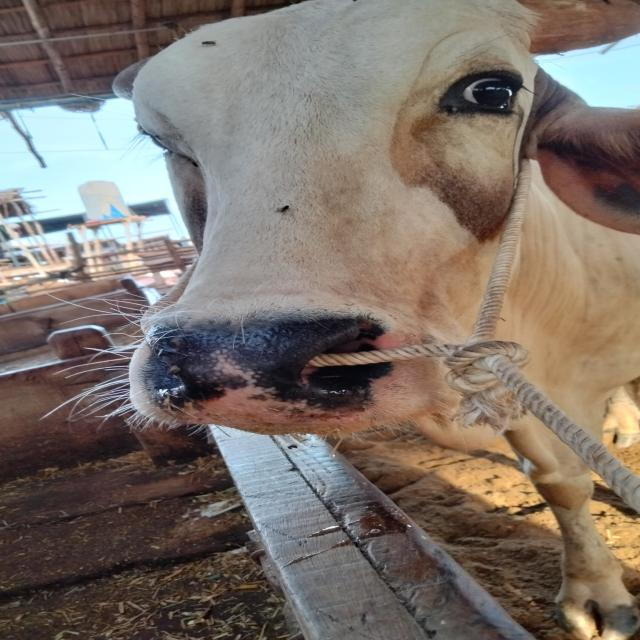muzzles: (131, 304, 419, 434)
